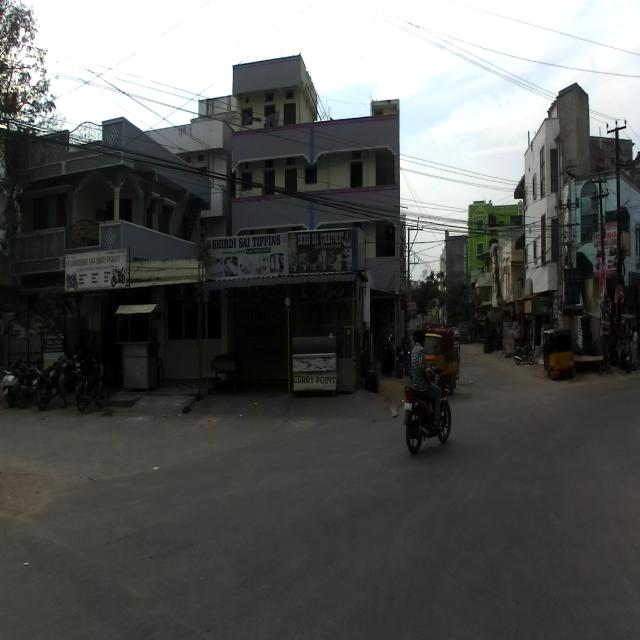motorcycle ahead at: (395, 379, 453, 456)
